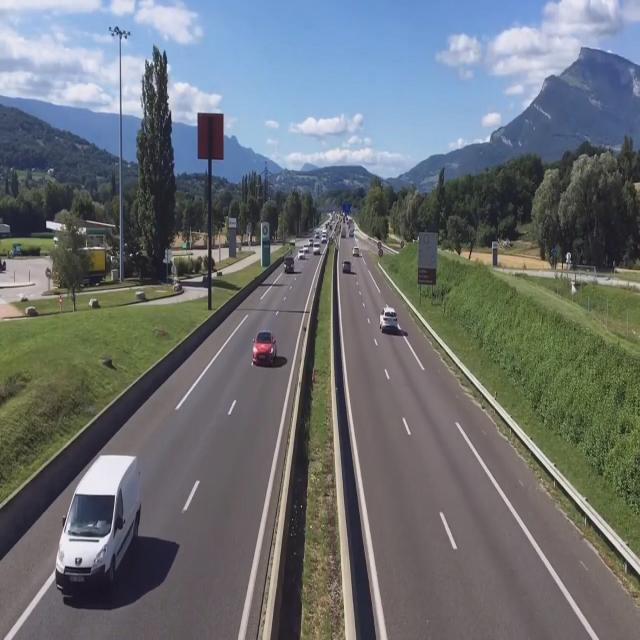car: (53, 454, 141, 606), (254, 331, 280, 367), (378, 306, 396, 334), (284, 256, 296, 272), (340, 258, 352, 272)
